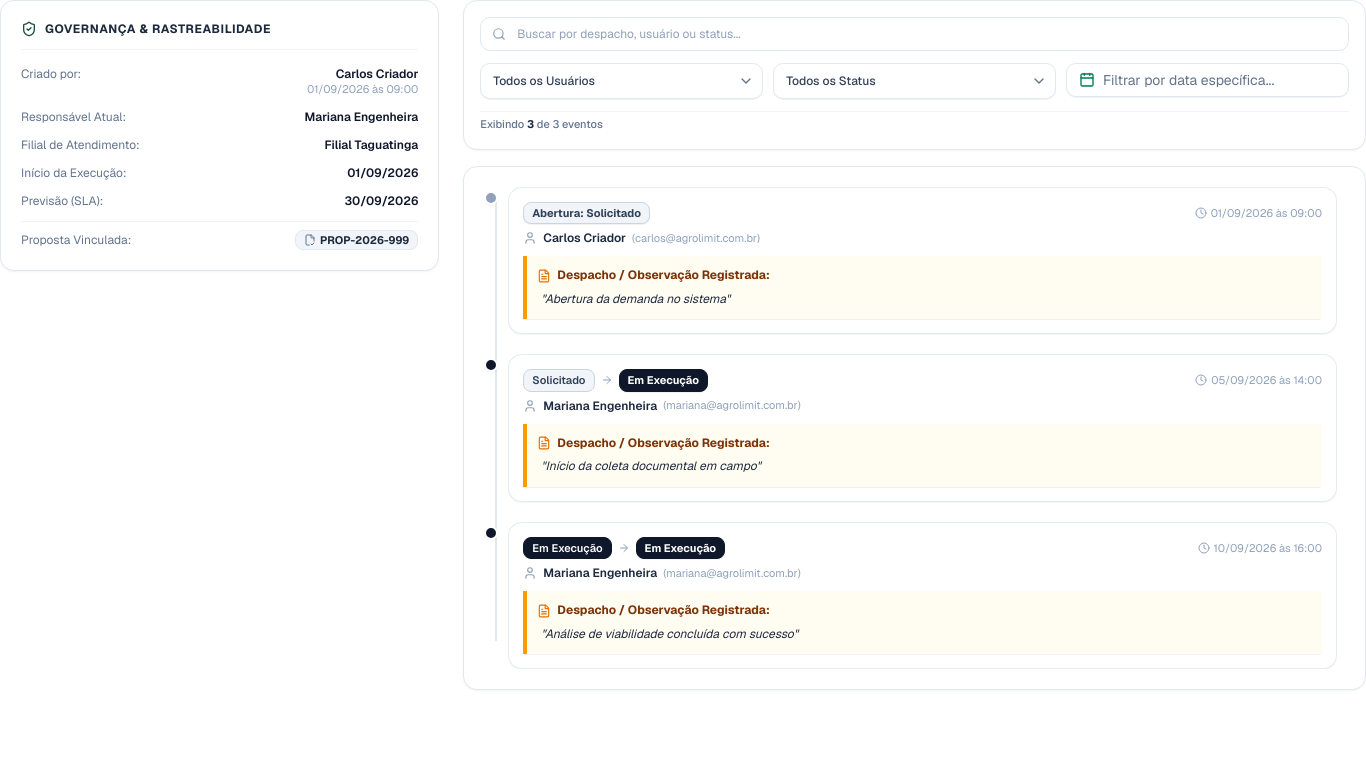
DemandAuditTabs — Governança (35%) e Histórico (65%) em Grid Amplo › deve filtrar eventos instantaneamente ao digitar na busca textual
This screenshot has width=1366, height=768.
Step 1. Type "viabilidade" into the field with placeholder "Buscar por despacho, usuário ou status..." → (915, 34), box [480,17,1349,51]
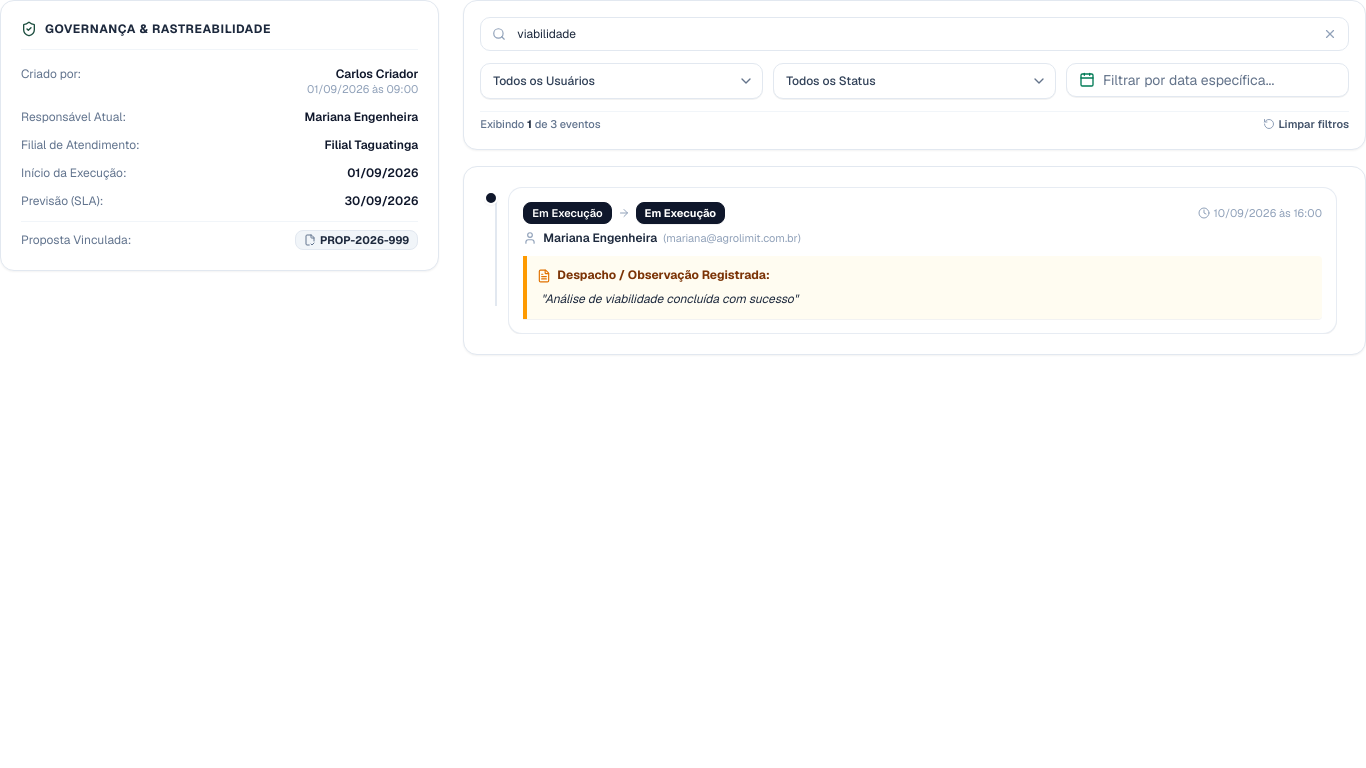
Check: the text "Abertura da demanda no sistema" is gone
Check: the text "Início da coleta documental em campo" is gone
Check: the element with test id "history-counter" reads "Exibindo 1 de 3 eventos", box [480,116,601,132]
